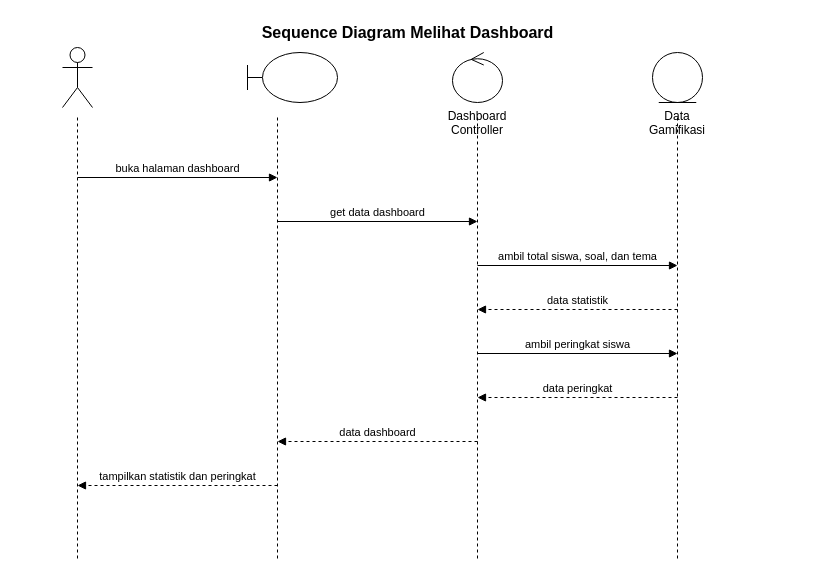
The diagram is 814 pixels wide and 578 high, and some of its shapes have lost their labels. Here are the shapes that lost their labels. From the top down, the centre of each, then its label:
point 77,77: Admin
point 292,77: Dashboard View
